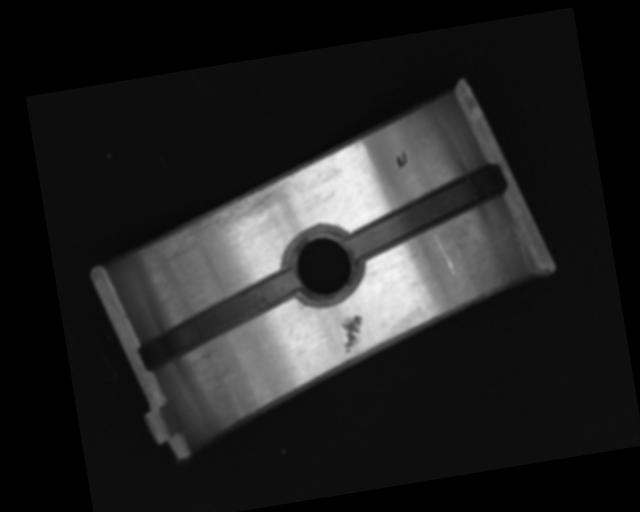blot: (394, 149, 409, 169)
bruise: (337, 314, 367, 355)
gap: (131, 269, 307, 370), (342, 164, 512, 259)
hole: (282, 221, 363, 309)
nick: (433, 229, 457, 278)
scratch: (143, 173, 300, 266)
